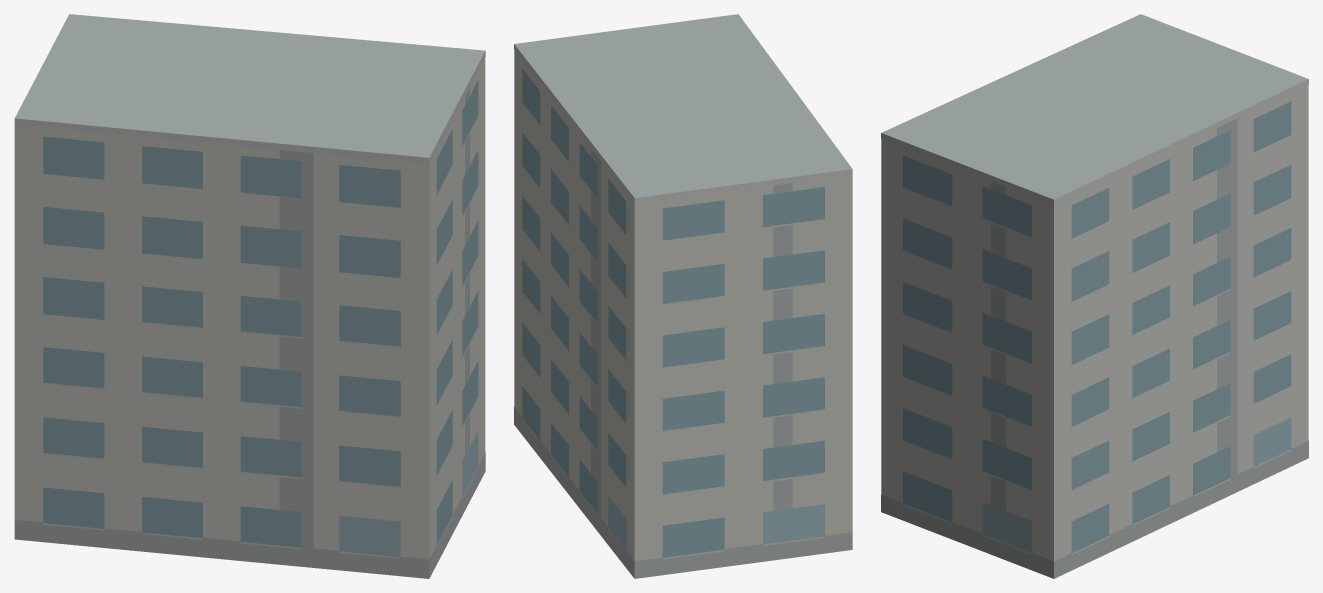
File: survey-upis-32933181.glb
3 renders of one model, left to right at view 1: azimuth 30°, elevation 25°; view 2: azimuth 150°, elevation 25°; view 3: azimuth 270°, elevation 25°, orthographic. The views are drawn at different scales.
Visible parts, largest first — view 1: survey-upis-32933181.tmp; view 2: survey-upis-32933181.tmp; view 3: survey-upis-32933181.tmp.
Boxes of the visible parts, x1,y1,x2,y2 form: survey-upis-32933181.tmp: (14, 14, 485, 578); survey-upis-32933181.tmp: (514, 14, 852, 578); survey-upis-32933181.tmp: (881, 14, 1308, 578).
Size of the model in its own units: 16.81 by 16 by 16.36.
